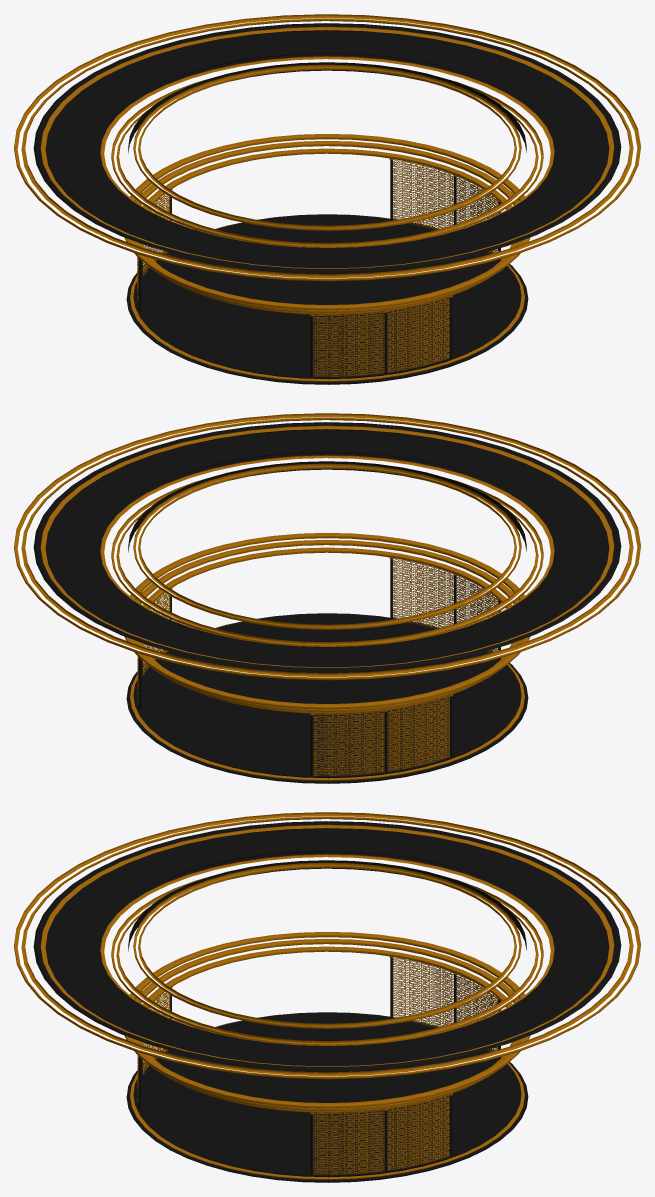
File: Platform Round.fbx
The picture shows the model from 3 angles, top to bottom: view 1: azimuth 30°, elevation 25°; view 2: azimuth 150°, elevation 25°; view 3: azimuth 270°, elevation 25°; orthographic projection.
Visible parts, largest first — view 1: Platform Round; view 2: Platform Round; view 3: Platform Round.
Boxes of the visible parts, x1,y1,x2,y2 form: Platform Round: (14,14,640,384); Platform Round: (14,413,640,783); Platform Round: (14,812,640,1182).
Size of the model in its own units: 4058 by 1100 by 4058.
